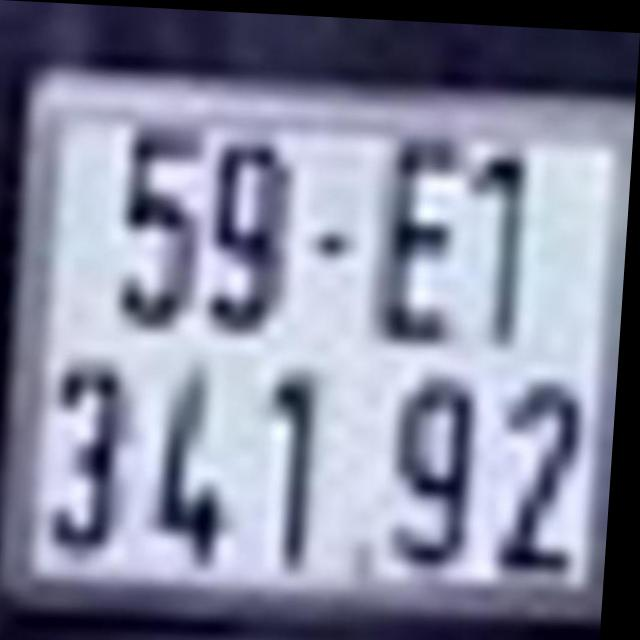1: (470, 123, 543, 336), (268, 363, 337, 578)
2: (503, 361, 595, 569)
3: (50, 353, 140, 563)
4: (158, 359, 253, 566)
5: (111, 107, 213, 333)
9: (212, 128, 303, 347), (391, 361, 485, 565)
E: (377, 115, 477, 347)
